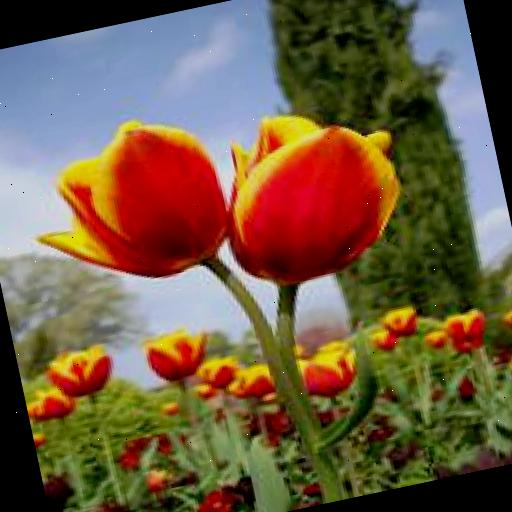tulip: (16, 100, 233, 310), (214, 93, 418, 286), (34, 334, 113, 404), (142, 320, 214, 389)
